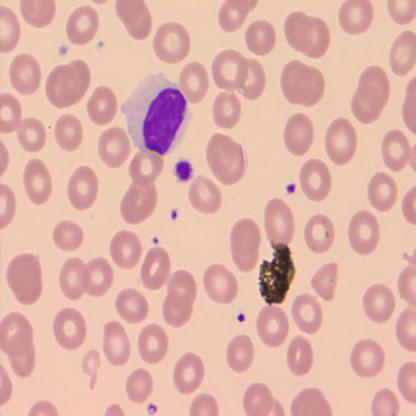Lymphocyte: (119, 69, 192, 156)
